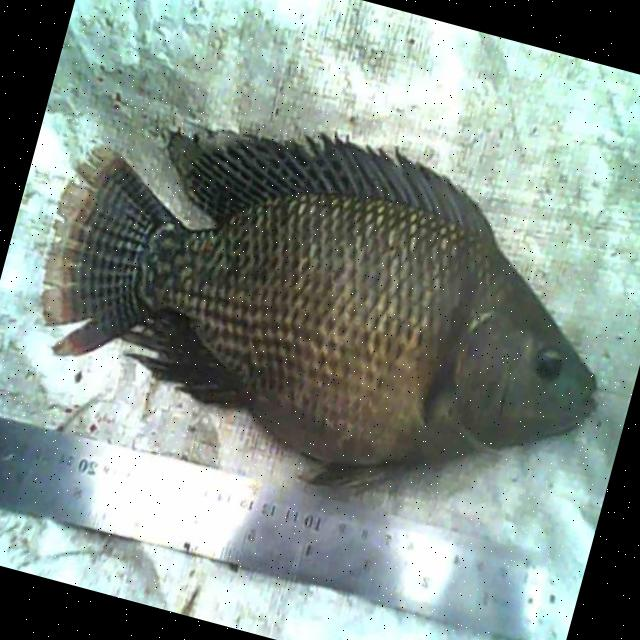ikan: (5, 62, 640, 546)
